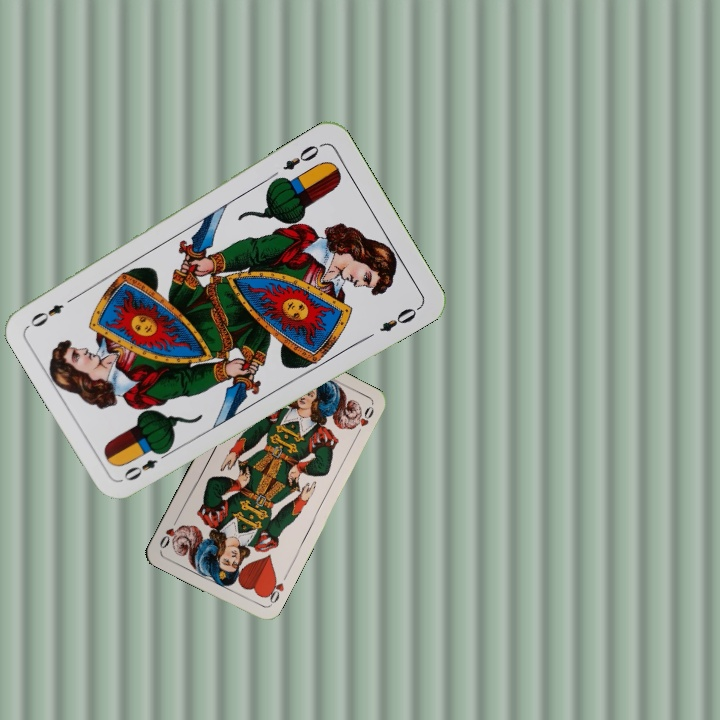EO: (119, 446, 172, 484), (279, 139, 326, 173)
HO: (261, 573, 287, 608)
